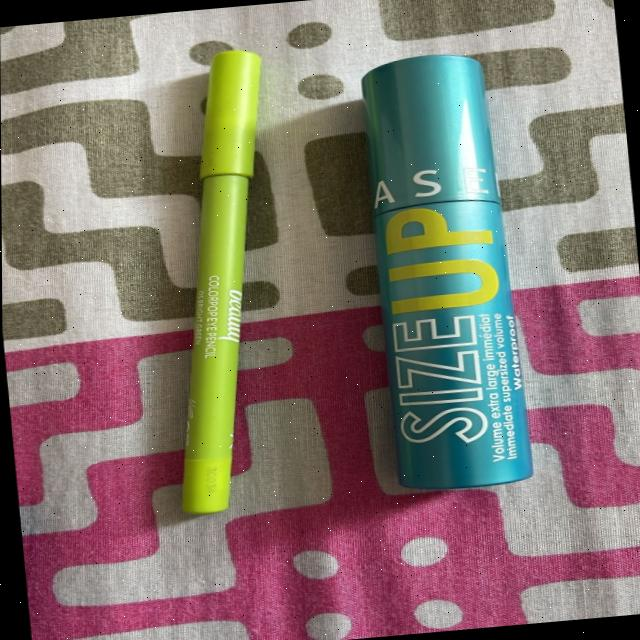eye liner: (83, 29, 341, 554)
lip stick: (329, 4, 566, 506)
